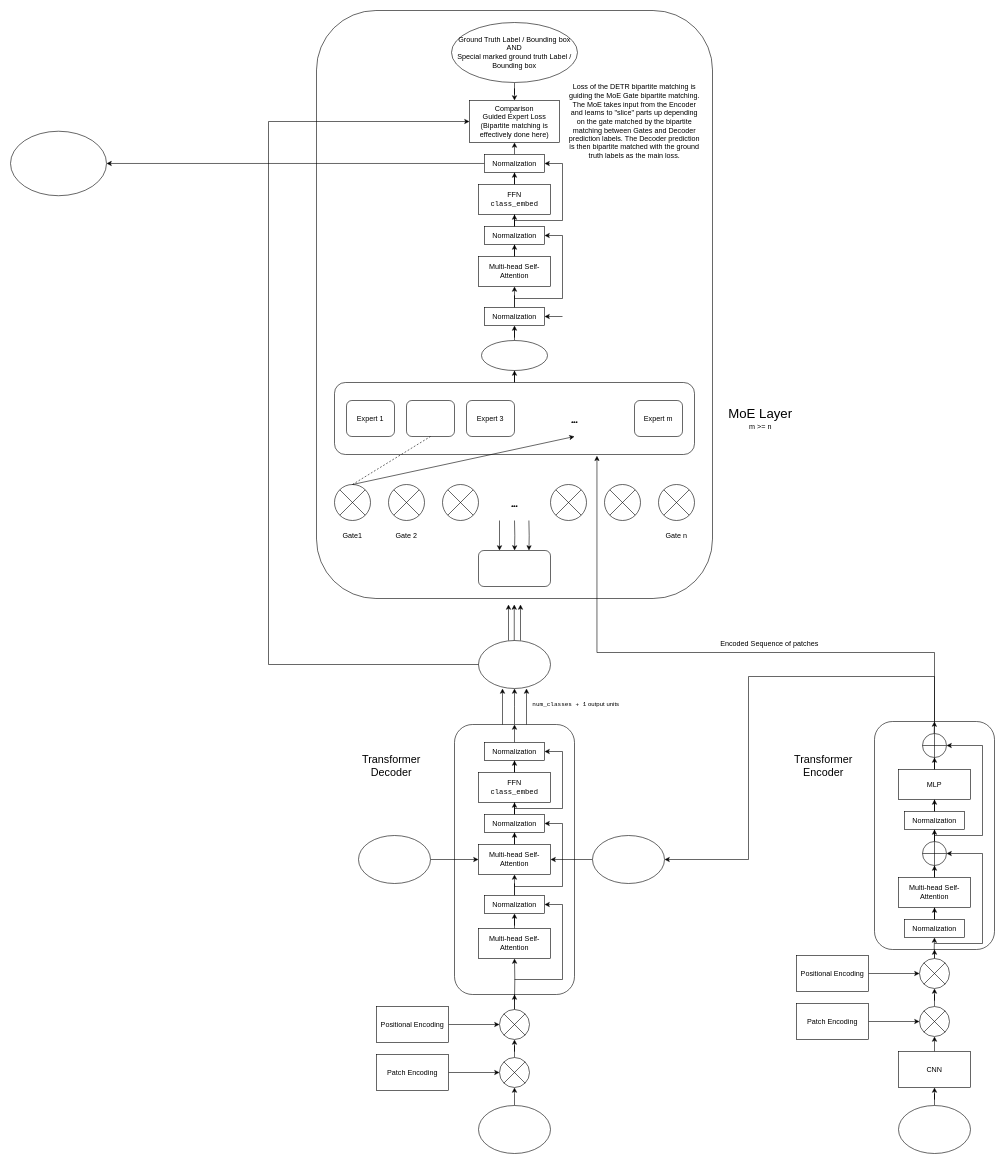
This 1005x1164 diagram has some shape labels left out. The shapes that lost their labels are listed below. From the top down, each one's box as (x1, y1, x2, y2) in pixels, then its label:
(10, 131, 106, 196): OUTPUT Predictions
(481, 340, 548, 370): Expert Predictions
(406, 400, 454, 436): Expert 2
(478, 550, 550, 586): Bipartite Matching
(478, 640, 550, 688): Predicted label n / Predicted Bounding box coordinates
(358, 835, 430, 884): INPUT Object Queries (num_classes)
(592, 835, 664, 884): INPUT Encoder Encoded Vector Sequence
(478, 1105, 550, 1154): INPUT Target Sequence
(898, 1105, 970, 1154): INPUT Image
